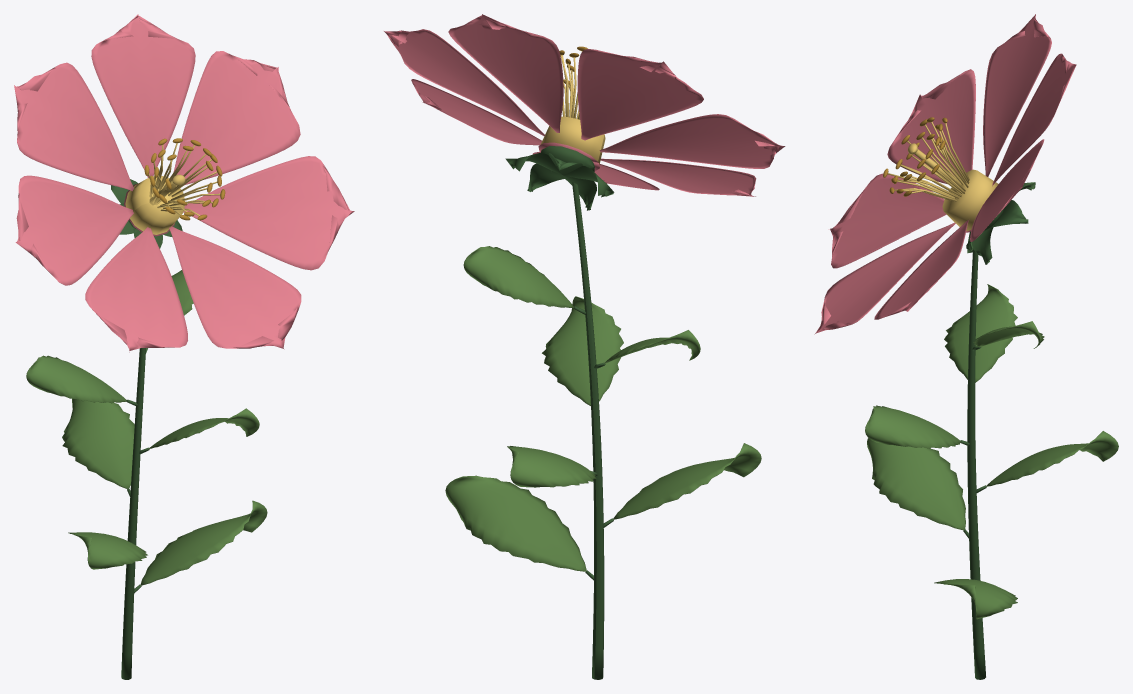
The model's file is camellia-common-v2.glb.
3 views of the same model, side by side, from view 1: azimuth 30°, elevation 25°; view 2: azimuth 150°, elevation 25°; view 3: azimuth 270°, elevation 25° (orthographic). The views are drawn at different scales.
Parts seen in each view (by area): view 1: camellia-common-v2-petal, camellia-common-v2-leaf, camellia-common-v2-stem, camellia-common-v2-center, camellia-common-v2-pollen; view 2: camellia-common-v2-petal, camellia-common-v2-leaf, camellia-common-v2-stem, camellia-common-v2-center; view 3: camellia-common-v2-petal, camellia-common-v2-leaf, camellia-common-v2-stem, camellia-common-v2-center, camellia-common-v2-pollen.
Boxes of the visible parts, x1,y1,x2,y2 form: camellia-common-v2-petal: [14, 14, 354, 352]; camellia-common-v2-leaf: [26, 270, 267, 585]; camellia-common-v2-stem: [111, 179, 182, 679]; camellia-common-v2-center: [125, 143, 220, 234]; camellia-common-v2-pollen: [144, 138, 225, 220]; camellia-common-v2-petal: [384, 14, 785, 196]; camellia-common-v2-leaf: [445, 246, 761, 571]; camellia-common-v2-stem: [505, 146, 614, 679]; camellia-common-v2-center: [540, 51, 605, 164]; camellia-common-v2-petal: [814, 14, 1076, 334]; camellia-common-v2-leaf: [865, 284, 1118, 619]; camellia-common-v2-stem: [960, 182, 1035, 679]; camellia-common-v2-center: [888, 122, 998, 231]; camellia-common-v2-pollen: [883, 117, 947, 196].
Bounding box in the file's own units: 1.08 × 1.91 × 0.8198.
